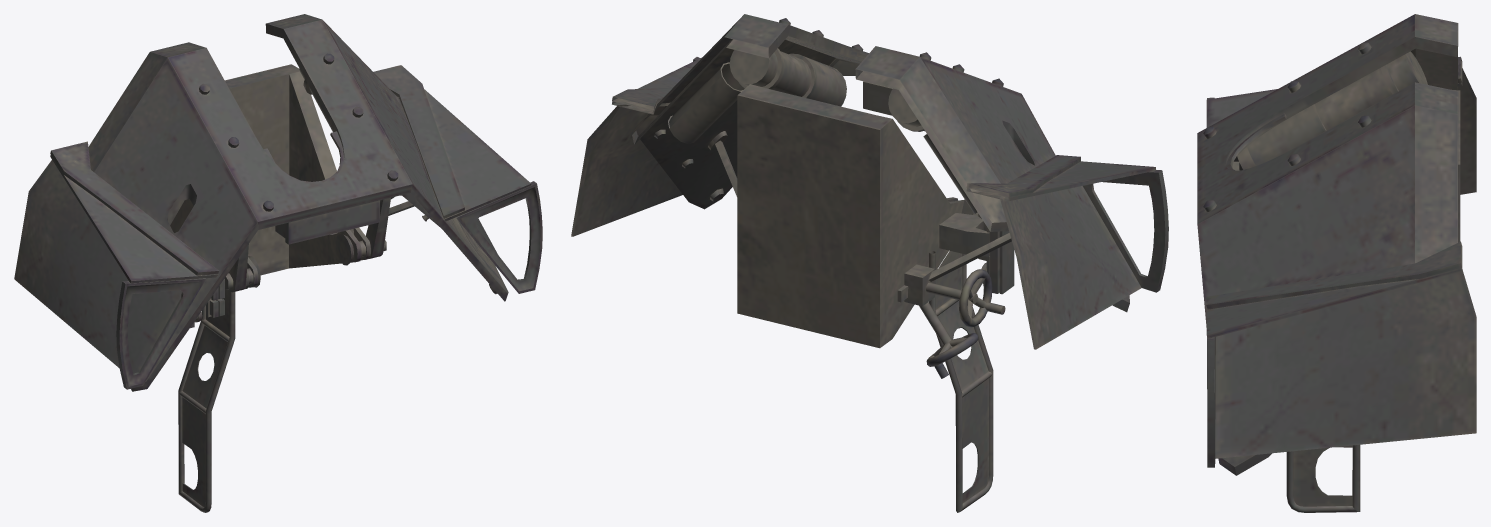
File: Turret_01.glb
3 renders of one model, left to right at view 1: azimuth 30°, elevation 25°; view 2: azimuth 150°, elevation 25°; view 3: azimuth 270°, elevation 25°, orthographic. The views are drawn at different scales.
Visible parts, largest first — view 1: set_0_group_0; view 2: set_0_group_0; view 3: set_0_group_0.
Part boxes in pixels (box(x1,y1,x2,y2)): set_0_group_0: box(14, 14, 542, 512); set_0_group_0: box(571, 14, 1168, 512); set_0_group_0: box(1197, 14, 1476, 512).
Size of the model in its own units: 1.51 by 1.43 by 0.7148.
1 material, 1 textured.
